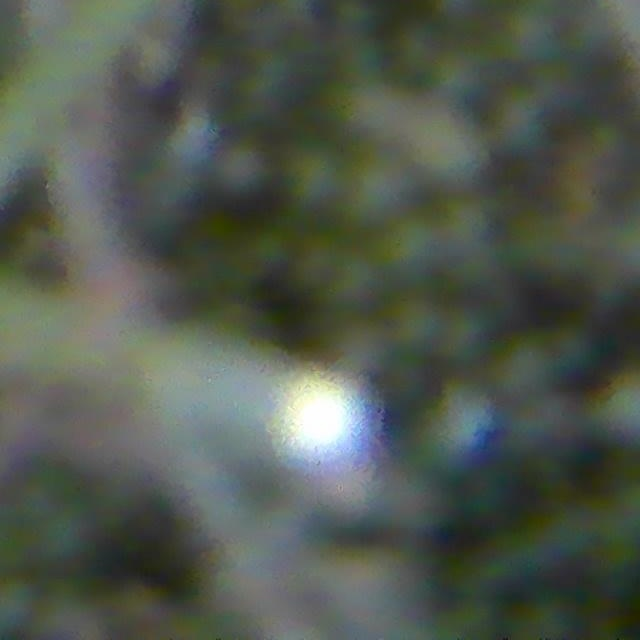SeaGrape: (409, 111, 488, 189), (343, 154, 415, 230), (378, 212, 449, 285), (283, 144, 351, 214), (322, 248, 387, 316), (387, 295, 448, 356), (214, 140, 271, 198)
